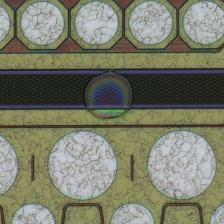COATING BAD: (81, 67, 141, 127)
